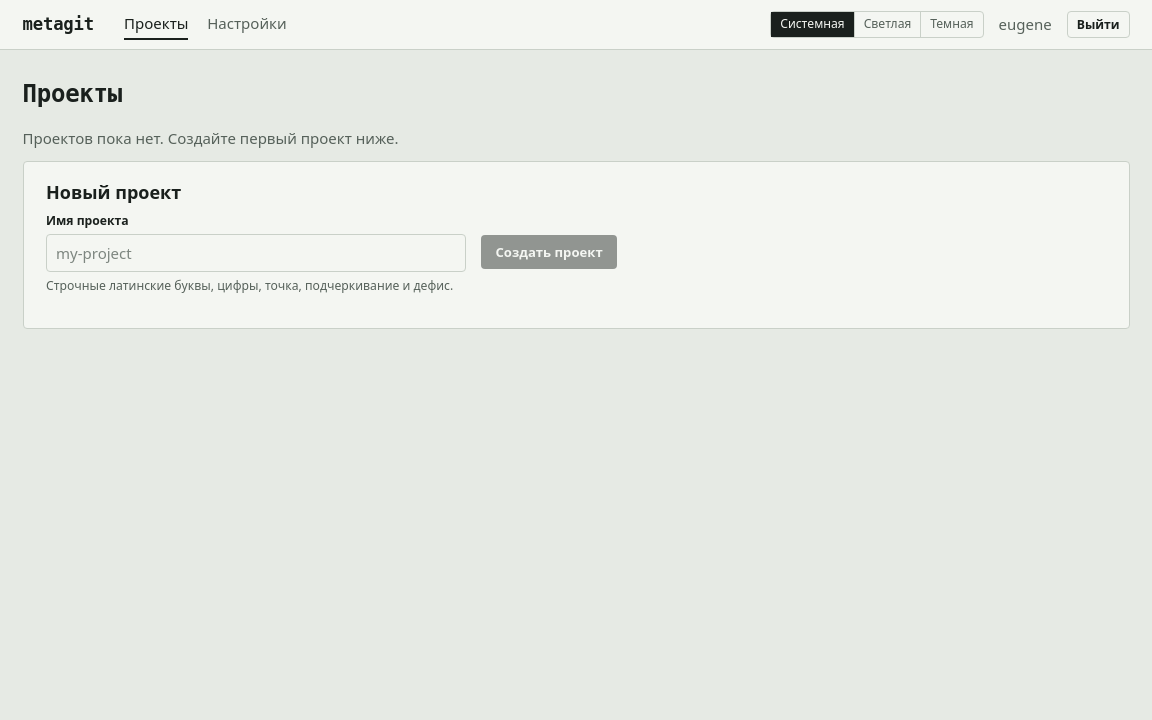
logout ends the session and opens the login page
This screenshot has width=1152, height=720.
Click the button "Выйти": (1098, 24) 1067,11 -> 1130,38
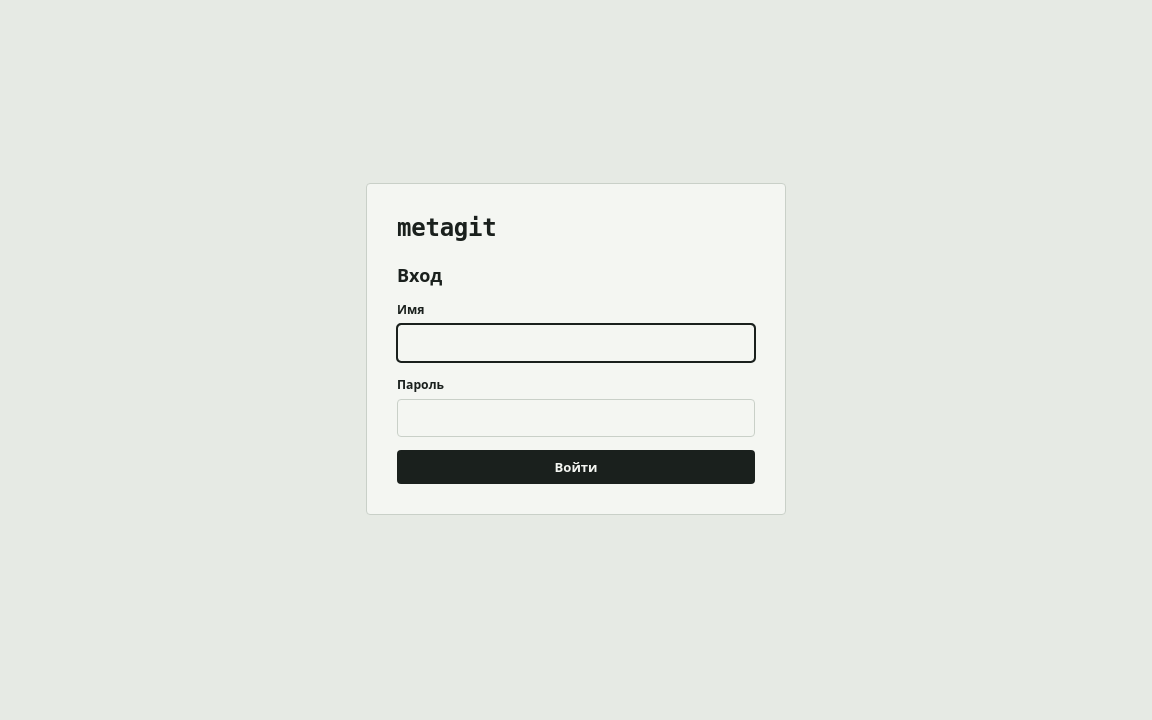
Check: the button "Войти" is shown, box 397,450 -> 755,484
